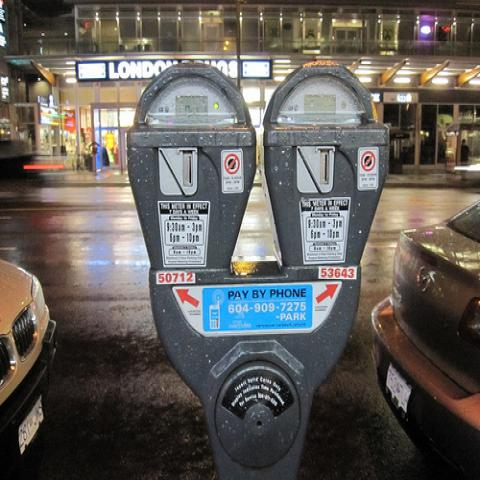car: (372, 200, 479, 476), (1, 258, 57, 478)
